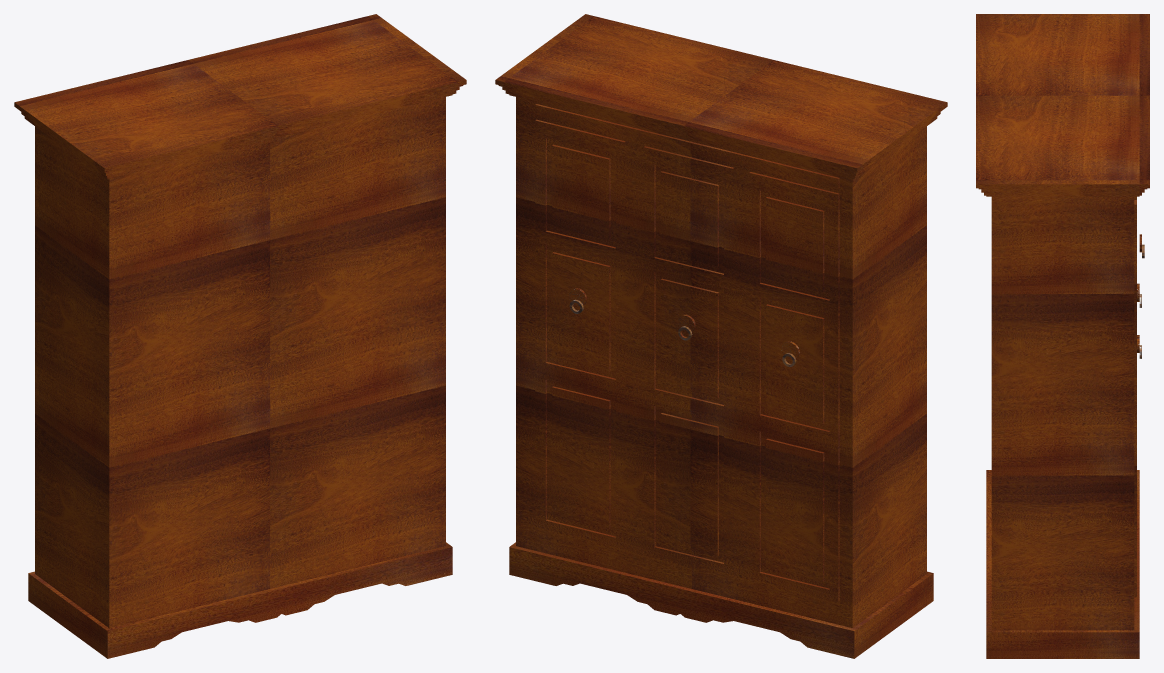
3 renders of one model, left to right at view 1: azimuth 30°, elevation 25°; view 2: azimuth 150°, elevation 25°; view 3: azimuth 270°, elevation 25°, orthographic. The views are drawn at different scales.
Parts seen in each view (by area): view 1: mesh2_mesh2-geometry, mesh3_mesh3-geometry, mesh1_mesh1-geometry; view 2: mesh2_mesh2-geometry, mesh3_mesh3-geometry, mesh1_mesh1-geometry; view 3: mesh2_mesh2-geometry, mesh3_mesh3-geometry, mesh1_mesh1-geometry.
Boxes of the visible parts, box(x1,y1,x2,y2) form: mesh2_mesh2-geometry: box(29, 97, 450, 628); mesh3_mesh3-geometry: box(14, 14, 466, 179); mesh1_mesh1-geometry: box(28, 542, 452, 658); mesh2_mesh2-geometry: box(511, 97, 926, 628); mesh3_mesh3-geometry: box(495, 14, 947, 179); mesh1_mesh1-geometry: box(509, 542, 933, 658); mesh2_mesh2-geometry: box(986, 196, 1139, 630); mesh3_mesh3-geometry: box(976, 14, 1149, 196); mesh1_mesh1-geometry: box(986, 470, 1139, 658).
Size of the model in its own units: 0.5868 by 0.7691 by 0.2533.
